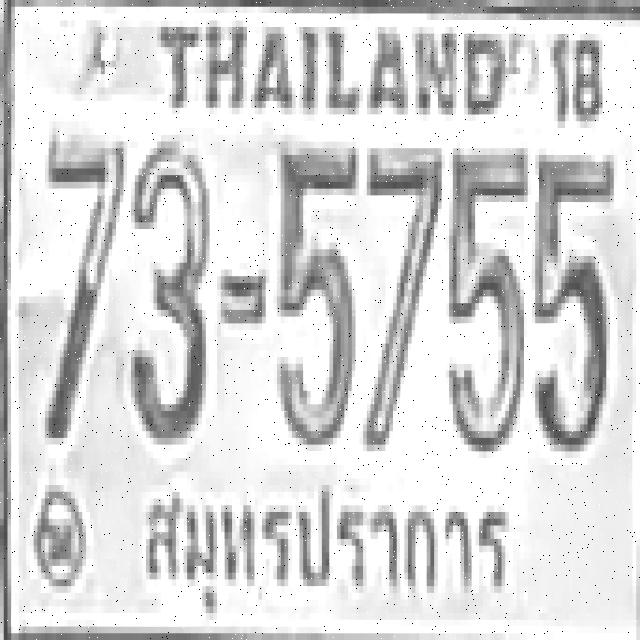3: (125, 138, 208, 441)
5: (532, 145, 614, 448), (444, 145, 526, 448), (274, 142, 356, 444)
7: (43, 135, 125, 438), (362, 142, 439, 444)
SamutPrakan: (137, 472, 513, 622)
